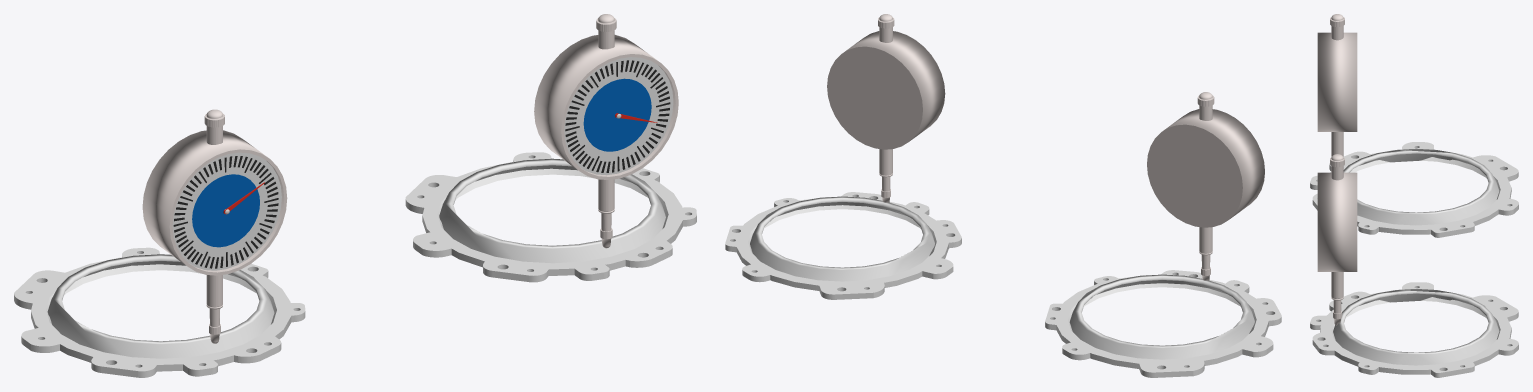
The model's file is Task8.fbx.
3 views of the same model, side by side, from view 1: azimuth 30°, elevation 25°; view 2: azimuth 150°, elevation 25°; view 3: azimuth 270°, elevation 25° (orthographic). The views are drawn at different scales.
Parts seen in each view (by area): view 1: 9, 9.001, Cylinder.009, Cylinder.005, Text.001, Text, Cylinder.008, Cylinder.006; view 2: 9, 9.001, Cylinder.005, Cylinder.009, Cylinder.006, Cylinder.008; view 3: 9.001, 9, Cylinder.005, Cylinder.009, Cylinder.008, Cylinder.006.
Boxes of the visible parts, x1,y1,x2,y2 form: 9: (14, 247, 305, 377); 9.001: (405, 152, 696, 282); Cylinder.009: (534, 35, 678, 179); Cylinder.005: (142, 130, 287, 275); Text.001: (565, 60, 670, 172); Text: (173, 156, 278, 268); Cylinder.008: (596, 14, 616, 248); Cylinder.006: (204, 109, 224, 343); 9: (1045, 270, 1281, 377); 9.001: (725, 192, 961, 299); Cylinder.005: (1147, 109, 1264, 227); Cylinder.009: (827, 31, 945, 149); Cylinder.006: (1197, 92, 1214, 280); Cylinder.008: (878, 14, 894, 202); 9.001: (1310, 282, 1518, 377); 9: (1310, 142, 1518, 237); Cylinder.005: (1317, 32, 1357, 131); Cylinder.009: (1317, 172, 1357, 271); Cylinder.008: (1330, 154, 1344, 325); Cylinder.006: (1330, 14, 1344, 156).
Size of the model in its own units: 495 by 179 by 189.
